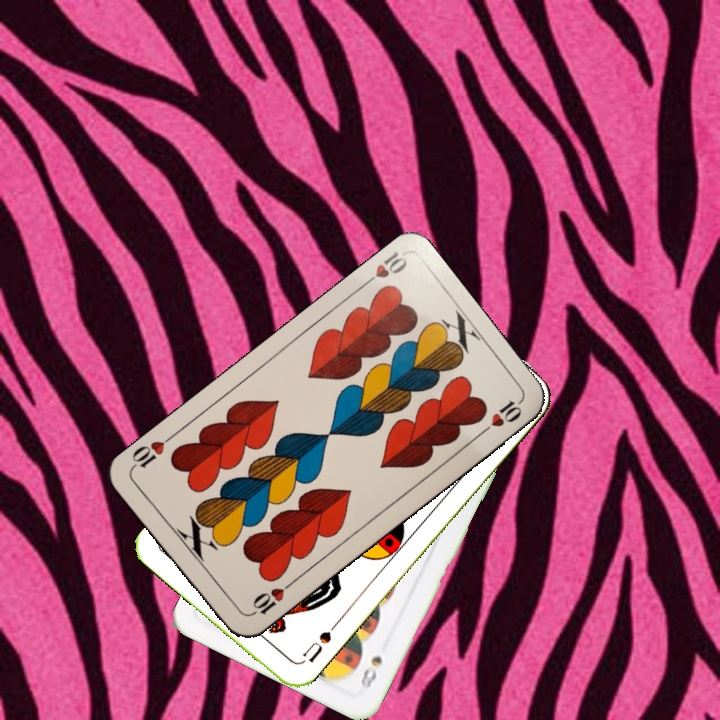H10: (356, 247, 410, 291), (244, 578, 295, 619)
S8: (356, 651, 385, 692)
SU: (297, 618, 341, 667)
